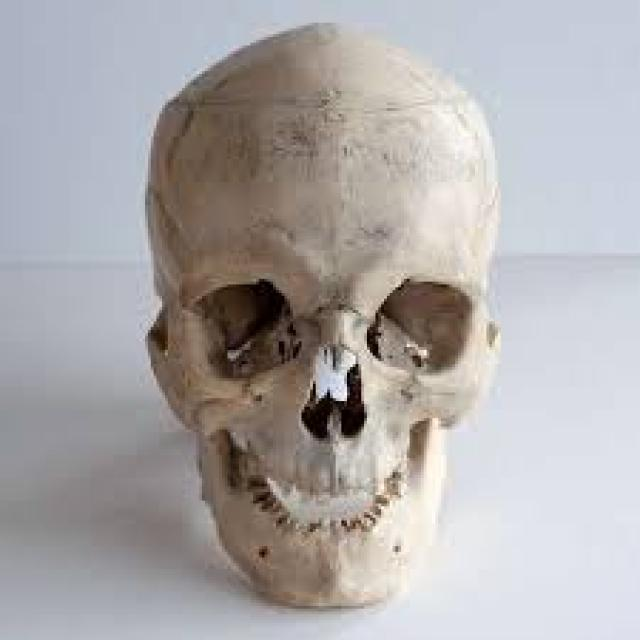skull: (125, 28, 519, 640)
